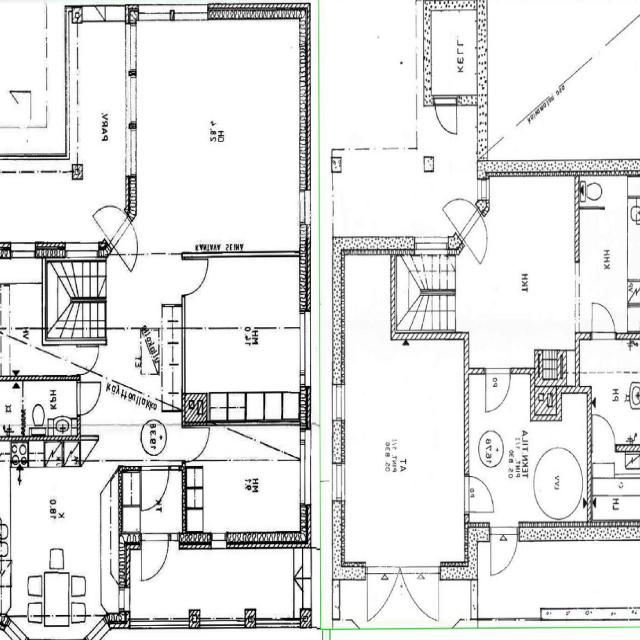door: (441, 181, 483, 243), (458, 206, 500, 267), (106, 211, 148, 272), (403, 562, 439, 633), (367, 562, 403, 633), (90, 187, 131, 247), (490, 522, 518, 579), (141, 532, 168, 587), (141, 466, 169, 512), (464, 476, 494, 512), (486, 367, 510, 411), (434, 95, 457, 139), (182, 259, 210, 295), (592, 411, 616, 452), (592, 297, 615, 339), (183, 427, 209, 461), (77, 382, 103, 415), (77, 346, 99, 374)
